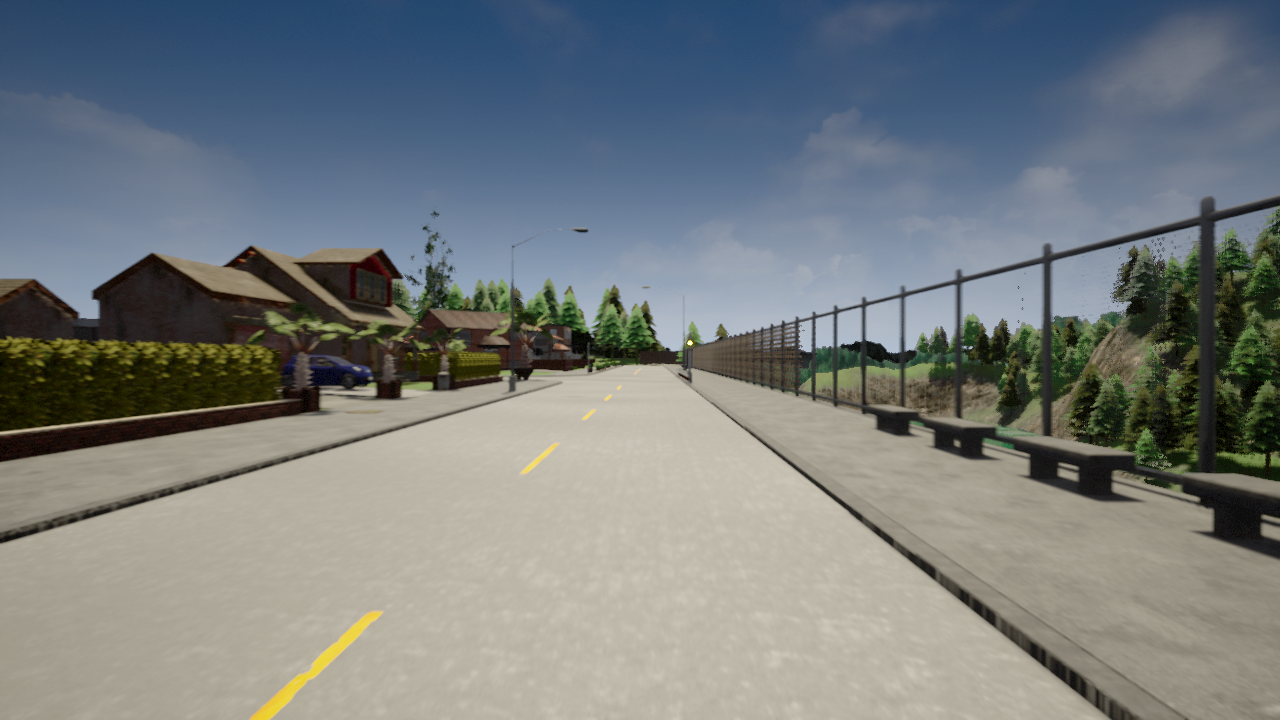yellow: (686, 335, 693, 351)
